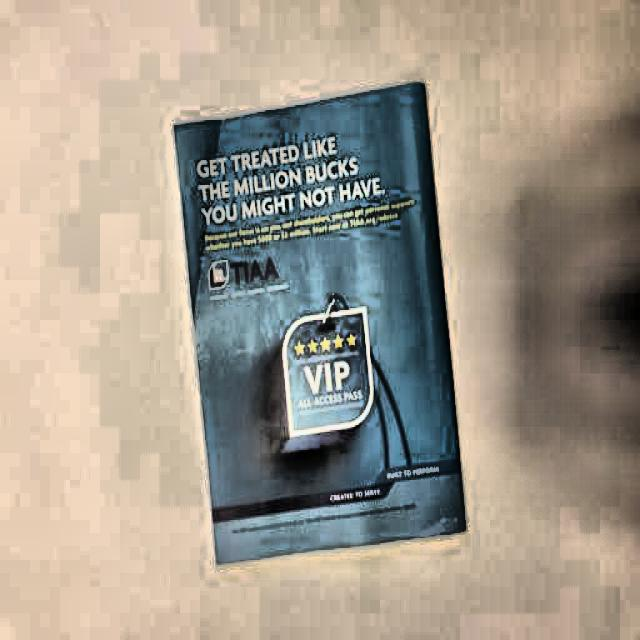paper: (169, 80, 477, 573)
